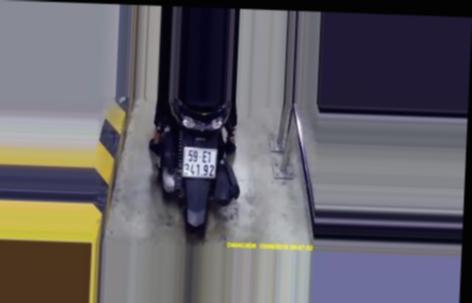License_Plate: (179, 145, 221, 181)
